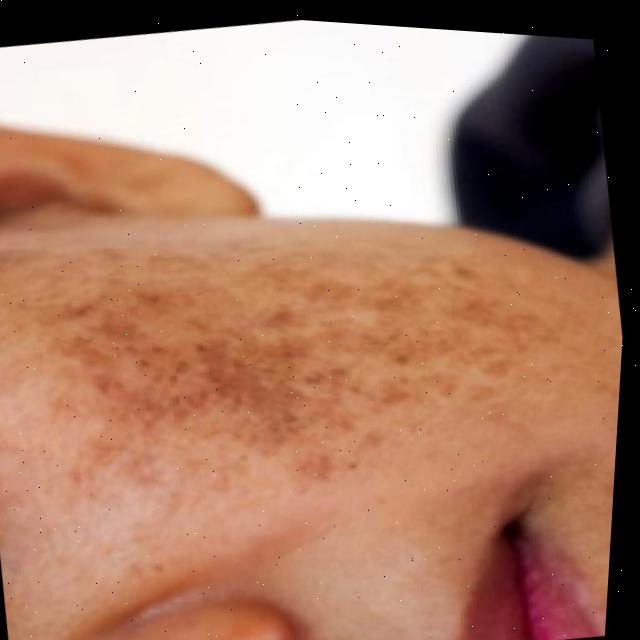Melasma: (0, 148, 631, 583)
